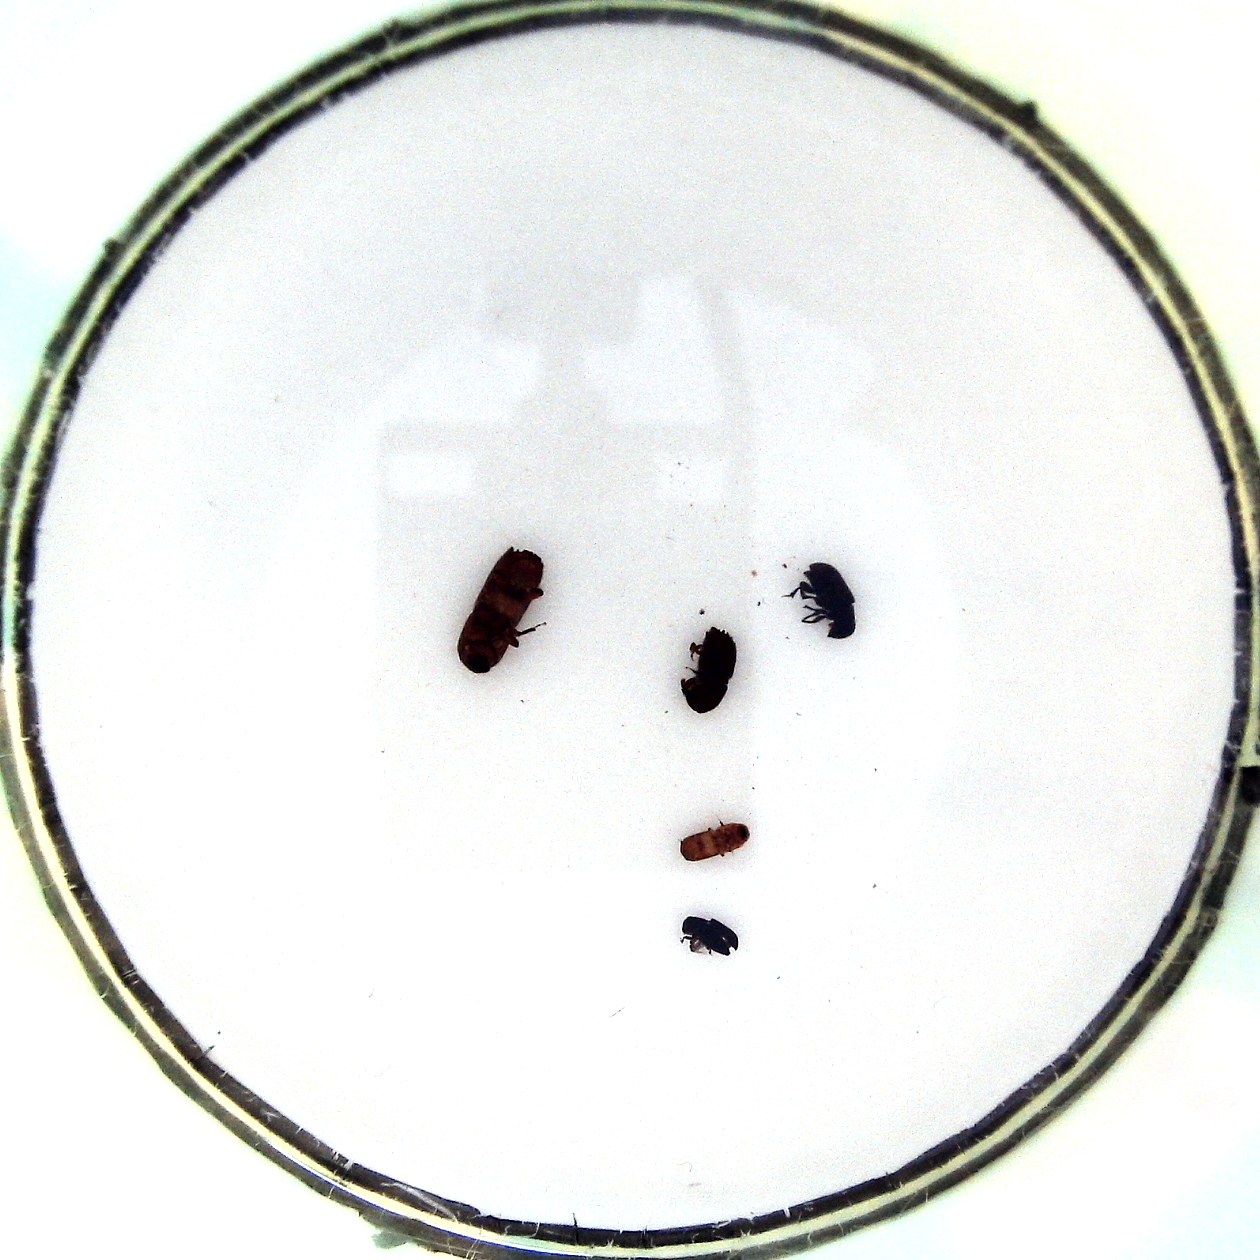Boerner: (451, 541, 553, 677)
Linnaeus: (678, 622, 743, 718)
acuminatus: (676, 815, 755, 868)
armandi: (786, 558, 860, 648)
coleoptera: (678, 917, 745, 963)
